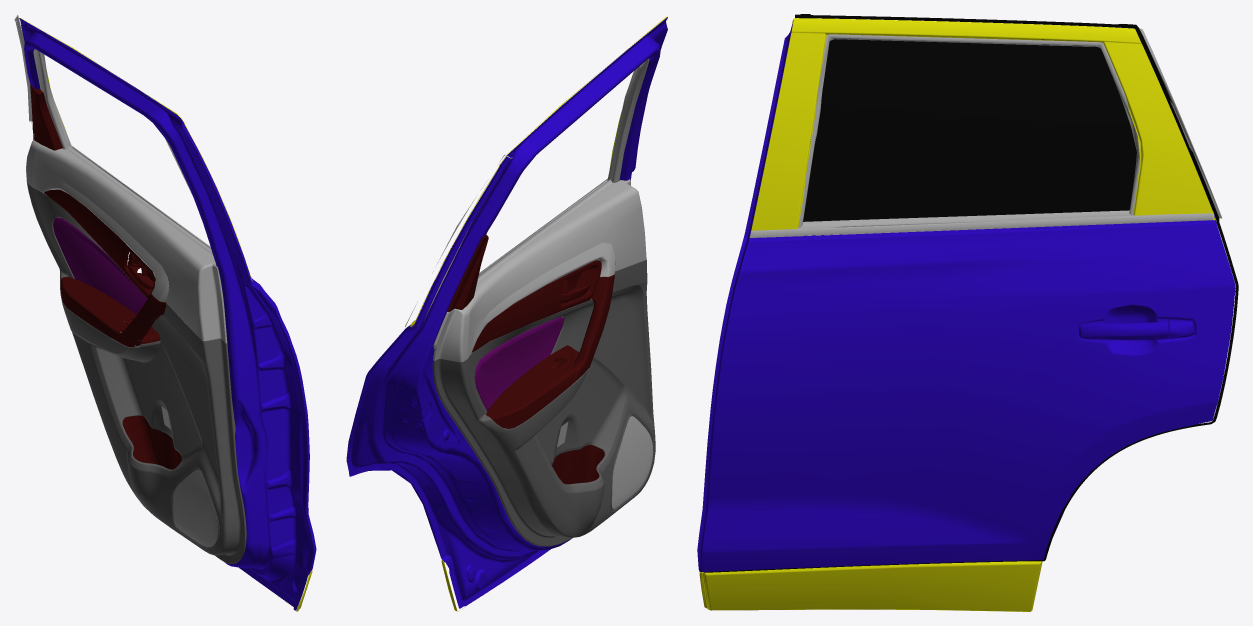
File: TOYOTA_URBAN_CRUISER_MID_EX_RL_DOORS_MESH.glb
3 views of the same model, side by side, from view 1: azimuth 30°, elevation 25°; view 2: azimuth 150°, elevation 25°; view 3: azimuth 270°, elevation 25° (orthographic). The views are drawn at different scales.
Visible parts, largest first — view 1: TOYOTA_URBAN_CRUISER_MID_EX_RL_DOORS_MESH; view 2: TOYOTA_URBAN_CRUISER_MID_EX_RL_DOORS_MESH; view 3: TOYOTA_URBAN_CRUISER_MID_EX_RL_DOORS_MESH.
Part boxes in pixels (left/top/right/bottom): TOYOTA_URBAN_CRUISER_MID_EX_RL_DOORS_MESH: left=14, top=15, right=316, bottom=611; TOYOTA_URBAN_CRUISER_MID_EX_RL_DOORS_MESH: left=346, top=16, right=667, bottom=611; TOYOTA_URBAN_CRUISER_MID_EX_RL_DOORS_MESH: left=697, top=14, right=1238, bottom=611.
Size of the model in its own units: 0.2925 by 1.17 by 1.04.
11 materials, 1 textured.
